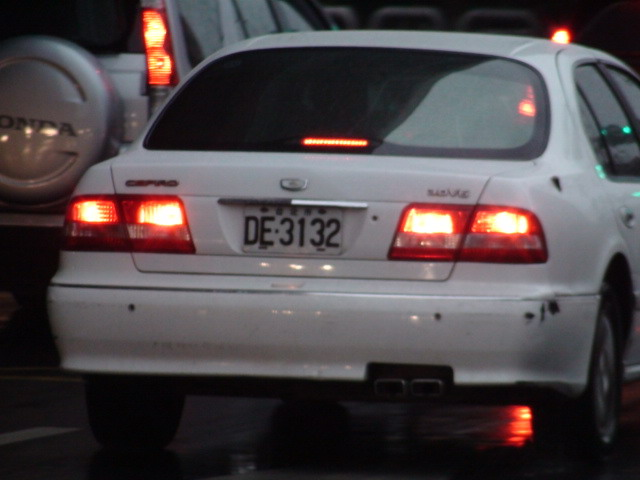plate: (238, 201, 348, 260)
